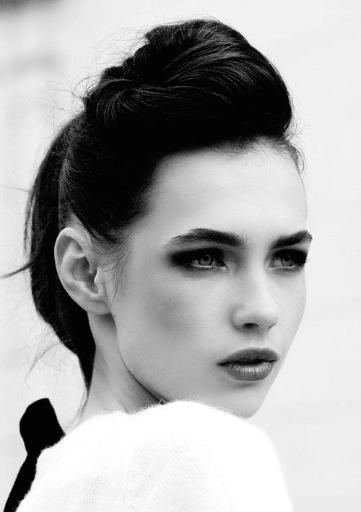left_eye: (268, 249, 308, 277)
left_lip_corner: (270, 354, 282, 373)
right_eye: (168, 245, 231, 279)
right_lip_corner: (214, 357, 230, 378)
